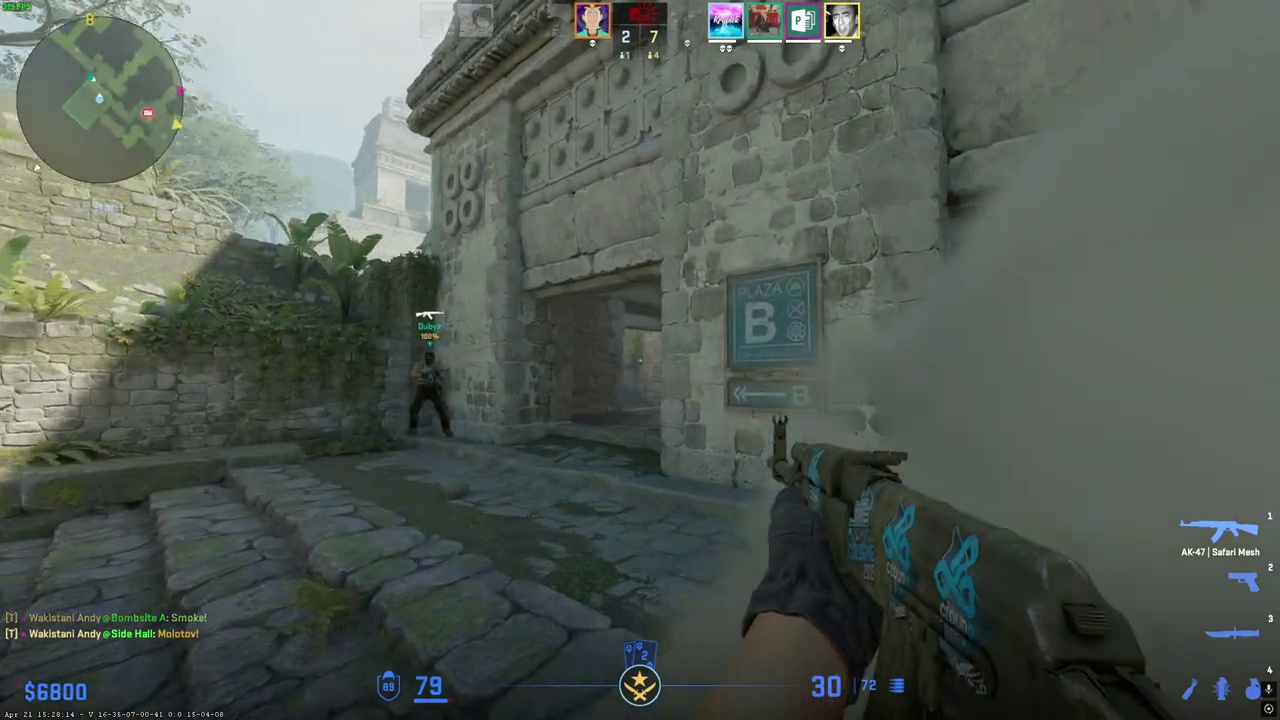Terrorist: (408, 351, 451, 437)
